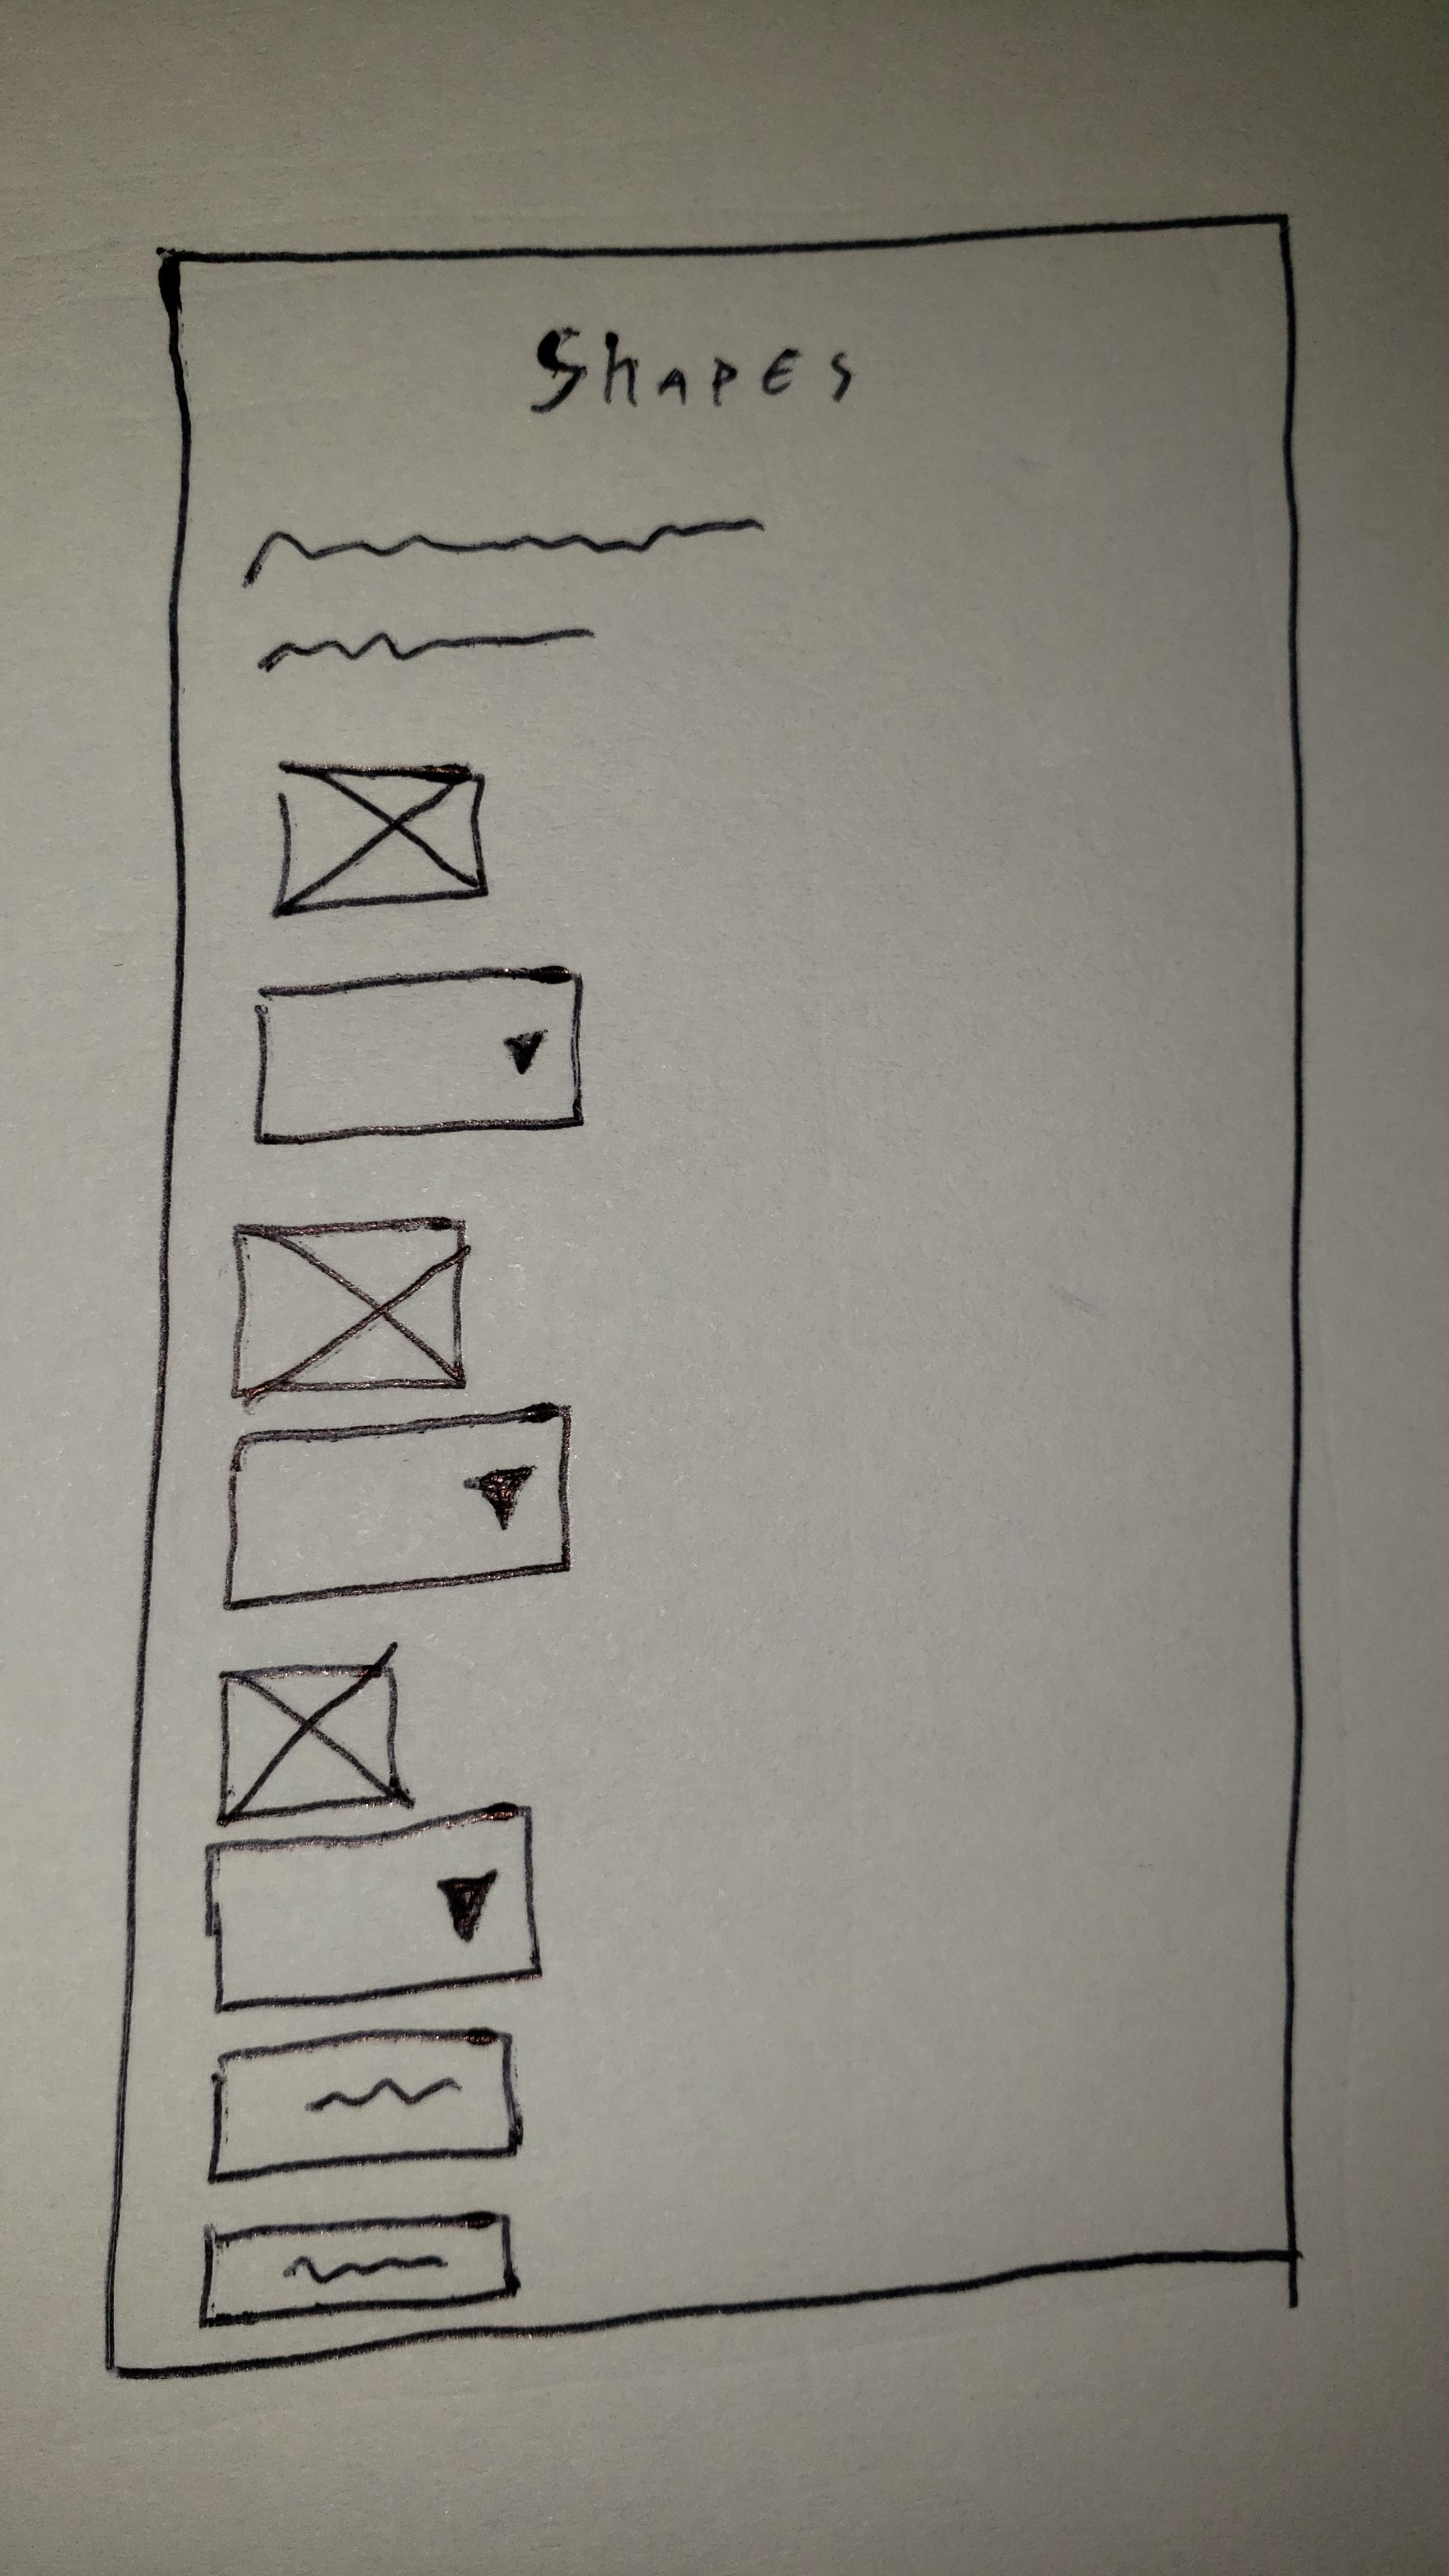Button: (207, 2029, 517, 2183), (195, 2212, 515, 2325)
Image: (228, 1217, 467, 1399), (267, 766, 485, 916), (212, 1663, 400, 1826)
Label: (242, 520, 768, 674), (531, 326, 855, 414)
ListPicker: (221, 1405, 573, 1610), (205, 1801, 543, 2012), (249, 966, 587, 1146)
Screen: (103, 214, 1300, 2381)
